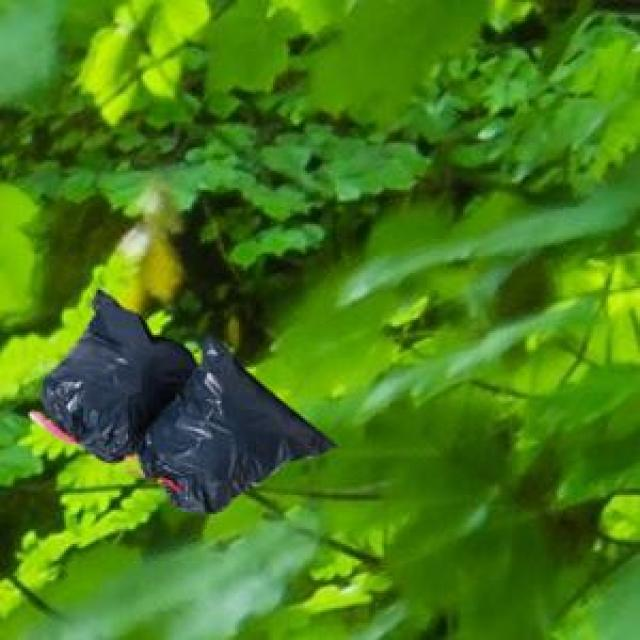Trashbag: (152, 348, 294, 512), (40, 303, 171, 455)
